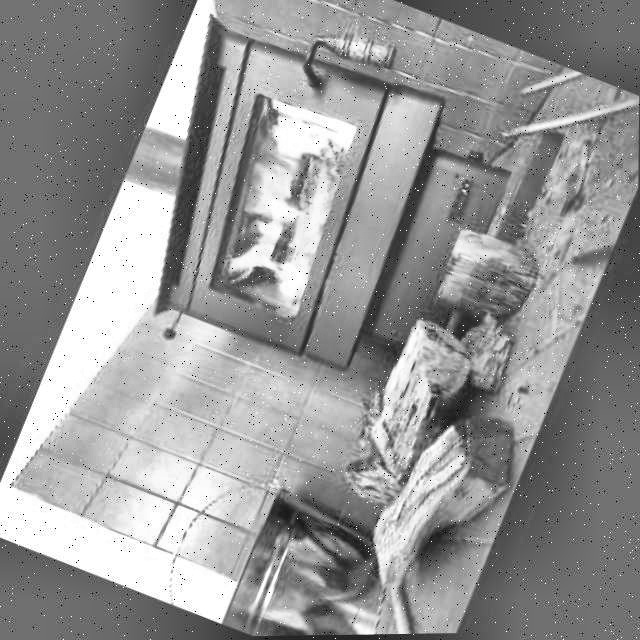Fire: (207, 119, 354, 316)
